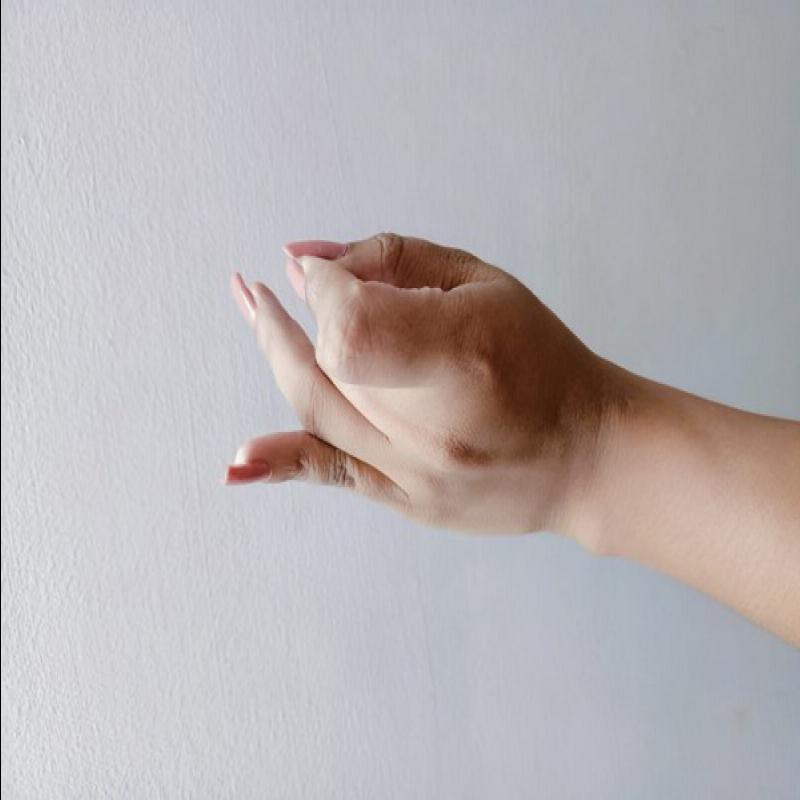Katakam: (205, 207, 594, 543)
